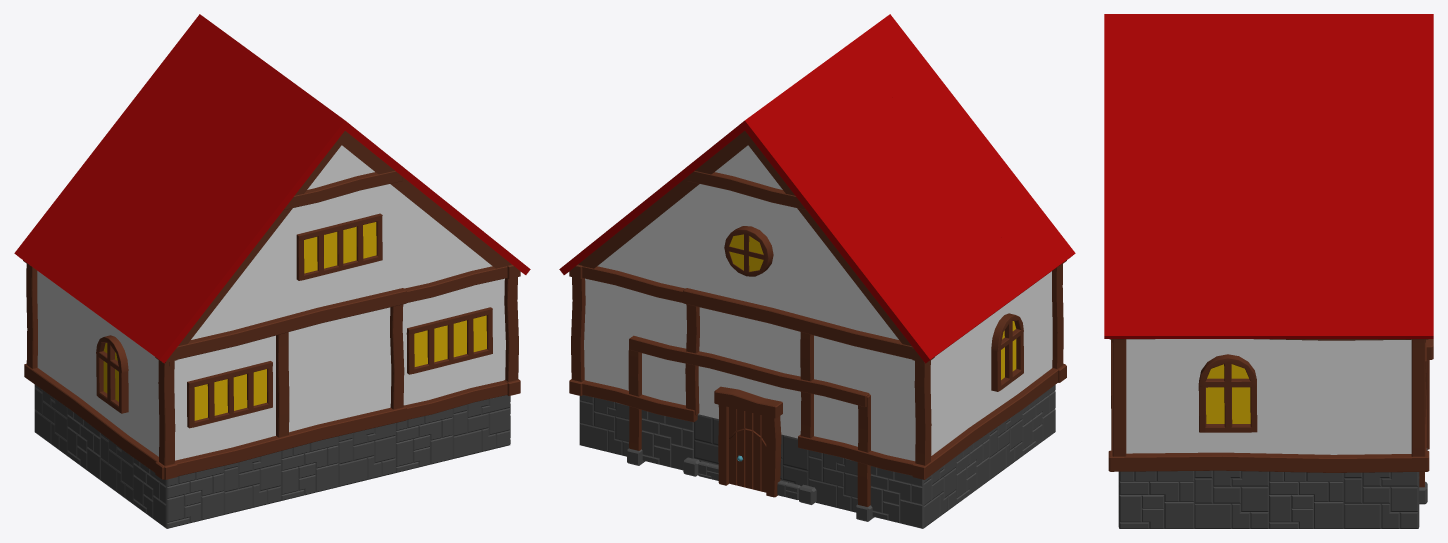
File: Full_House_12.fbx
3 views of the same model, side by side, from view 1: azimuth 30°, elevation 25°; view 2: azimuth 150°, elevation 25°; view 3: azimuth 270°, elevation 25° (orthographic). The views are drawn at different scales.
Parts seen in each view (by area): view 1: Stone_Wall_LOD0, Wall_Large7, Window_Large (×3), Wall_Large, Roof_Edge7, Roof_Edge_no_14, Wall_small15, Roof_Edge_no_13, Roof_Edge_1, Roof_Middle30, Roof_Middle29, Roof_Edge_no (+26 smaller); view 2: Wall_Large (×2), Stone_Wall_LOD0, Wall_small, Roof_Edge_1, Roof_Edge_no, Roof_Edge_no11, Roof_Edge7, Roof_Middle29, Roof_Middle30, Roof_Edge_no_13, Roof_Edge_no_14, Roof_Base34 (+35 smaller); view 3: Wall_Large, Stone_Wall_LOD0, Roof_Edge6, Roof_Edge_8, Roof_Middle27, Roof_Middle28, Roof_Edge_no_11, Roof_Edge_no12, Roof_Edge_no_12, Roof_Edge_no13, Roof_Base38, Roof_Base39 (+8 smaller).
Part boxes in pixels (x1=…): Stone_Wall_LOD0: x1=34, y1=384, x2=510, y2=528; Wall_Large7: x1=174, y1=307, x2=391, y2=460; Window_Large (×3): x1=187, y1=213, x2=492, y2=428; Wall_Large: x1=37, y1=271, x2=159, y2=456; Roof_Edge7: x1=120, y1=239, x2=230, y2=366; Roof_Edge_no_14: x1=191, y1=165, x2=287, y2=292; Wall_small15: x1=402, y1=278, x2=505, y2=405; Roof_Edge_no_13: x1=248, y1=91, x2=345, y2=218; Roof_Edge_1: x1=14, y1=162, x2=124, y2=284; Roof_Middle30: x1=54, y1=191, x2=157, y2=309; Roof_Middle29: x1=87, y1=215, x2=190, y2=332; Roof_Edge_no: x1=85, y1=88, x2=181, y2=190; Wall_Large (×2): x1=698, y1=271, x2=1052, y2=461; Stone_Wall_LOD0: x1=579, y1=385, x2=1055, y2=528; Wall_small: x1=584, y1=278, x2=686, y2=405; Roof_Edge_1: x1=859, y1=239, x2=969, y2=366; Roof_Edge_no: x1=802, y1=165, x2=898, y2=292; Roof_Edge_no11: x1=744, y1=91, x2=841, y2=218; Roof_Edge7: x1=965, y1=162, x2=1075, y2=284; Roof_Middle29: x1=932, y1=191, x2=1035, y2=309; Roof_Middle30: x1=899, y1=215, x2=1002, y2=331; Roof_Edge_no_13: x1=851, y1=14, x2=947, y2=116; Roof_Edge_no_14: x1=908, y1=88, x2=1004, y2=190; Roof_Base34: x1=784, y1=67, x2=874, y2=164; Wall_Large: x1=1126, y1=339, x2=1411, y2=454; Stone_Wall_LOD0: x1=1118, y1=470, x2=1419, y2=528; Roof_Edge6: x1=1343, y1=212, x2=1433, y2=342; Roof_Edge_8: x1=1104, y1=212, x2=1194, y2=342; Roof_Middle27: x1=1269, y1=212, x2=1343, y2=338; Roof_Middle28: x1=1194, y1=212, x2=1268, y2=338; Roof_Edge_no_11: x1=1343, y1=113, x2=1433, y2=212; Roof_Edge_no12: x1=1104, y1=113, x2=1194, y2=212; Roof_Edge_no_12: x1=1343, y1=14, x2=1433, y2=113; Roof_Edge_no13: x1=1104, y1=14, x2=1194, y2=113; Roof_Base38: x1=1269, y1=14, x2=1343, y2=113; Roof_Base39: x1=1194, y1=14, x2=1268, y2=113.
Size of what is drawn, in the model's own units: 0.0648 by 0.0626 by 0.044.
